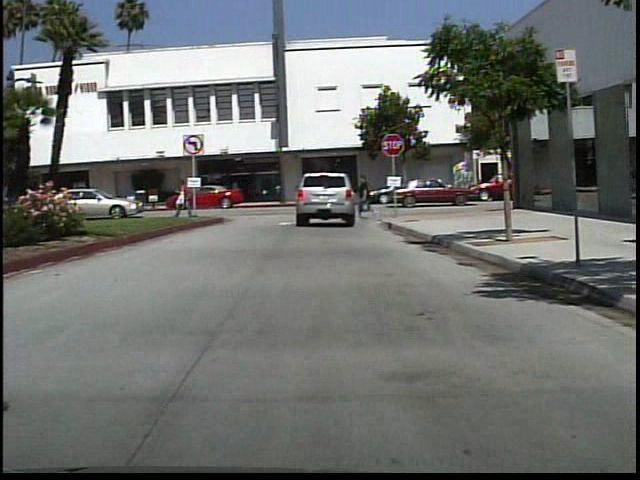person: (169, 175, 199, 220), (358, 172, 380, 222), (228, 177, 245, 204)
